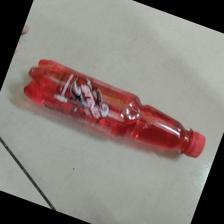Sting: (21, 58, 208, 159)
